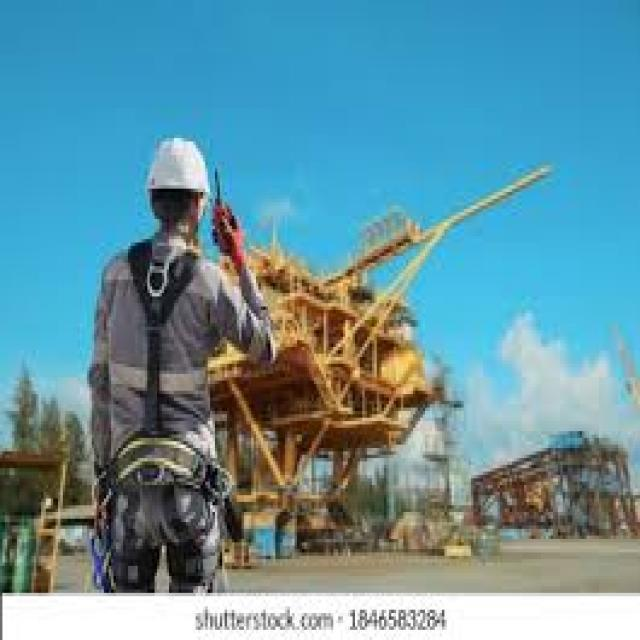belt: (91, 234, 222, 594)
